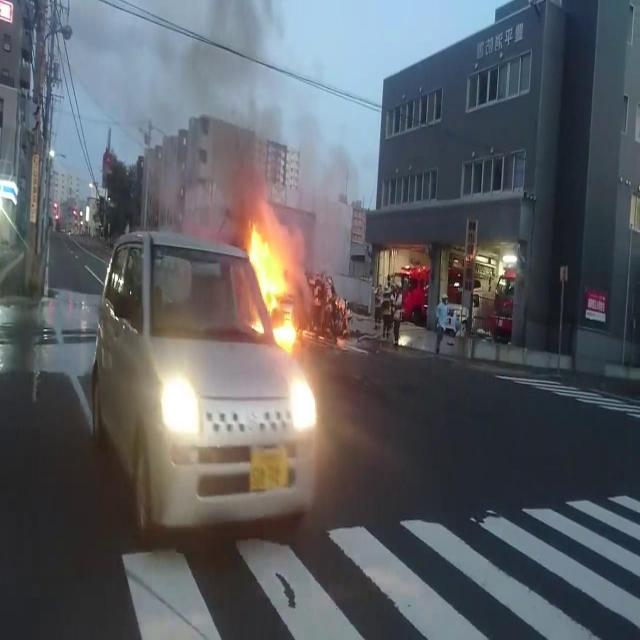fire: (245, 200, 307, 358)
